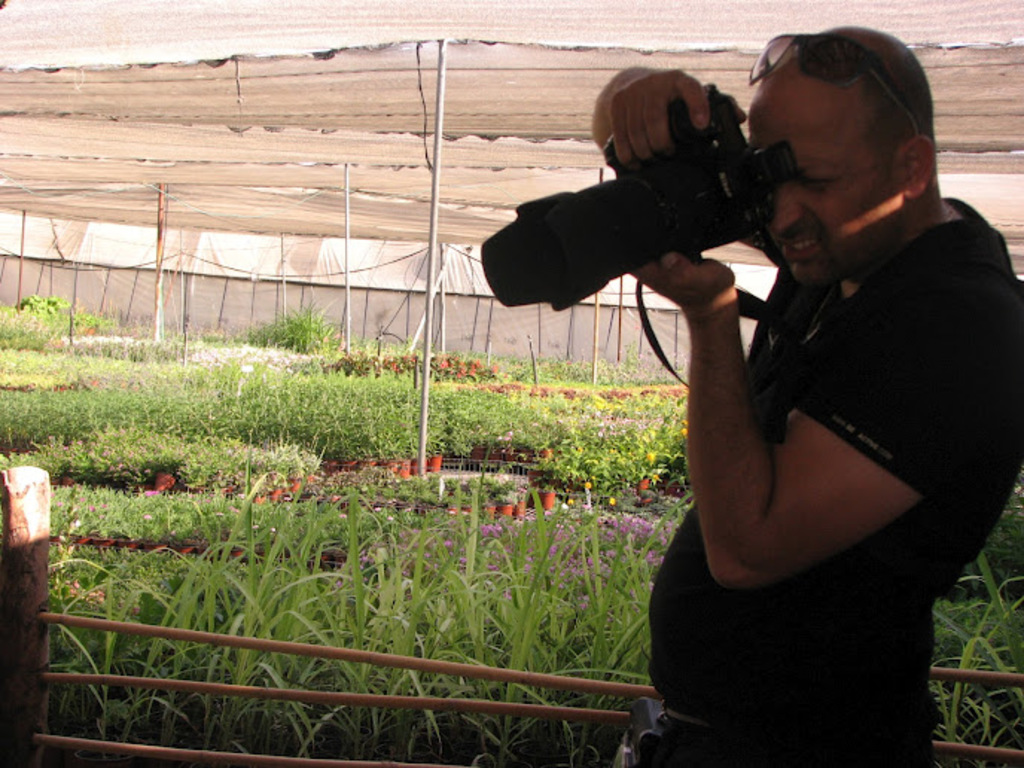Human_hand: (610, 67, 747, 162), (627, 252, 735, 313)
